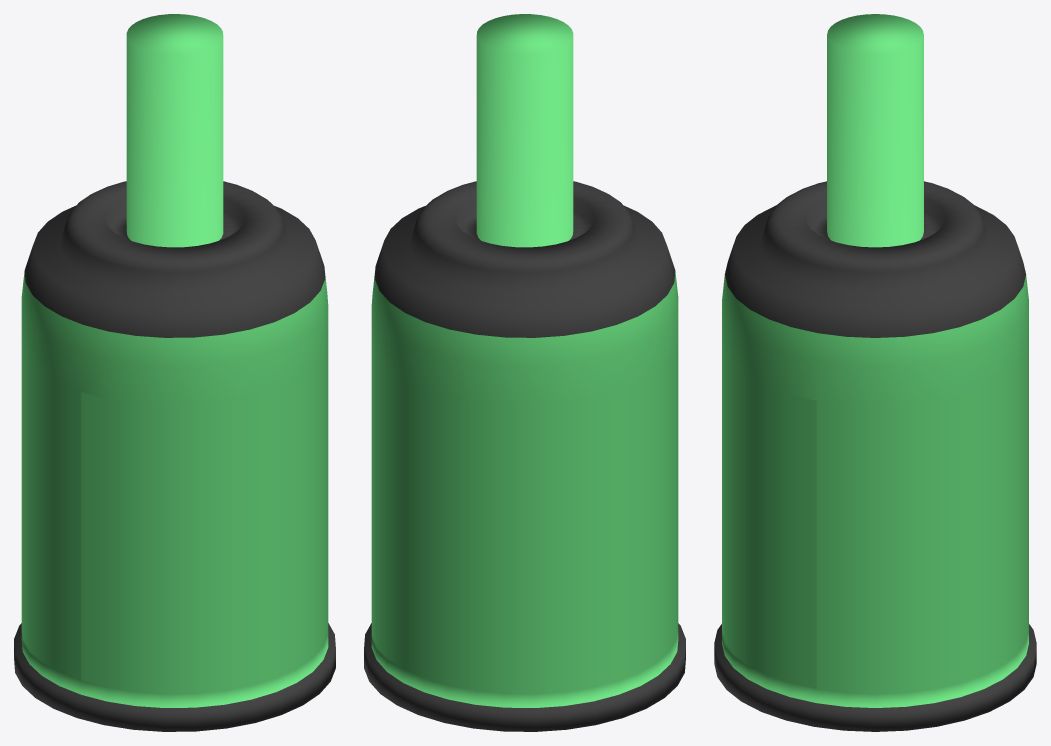
Rendered from birth_machine.glb.
The picture shows the model from 3 angles, left to right: view 1: azimuth 30°, elevation 25°; view 2: azimuth 150°, elevation 25°; view 3: azimuth 270°, elevation 25°; orthographic projection.
Parts seen in each view (by area): view 1: bocal, door; view 2: bocal, door; view 3: bocal, door.
Part boxes in pixels (x1=…): bocal: x1=14, y1=14, x2=335, y2=731; door: x1=81, y1=346, x2=328, y2=693; bocal: x1=364, y1=14, x2=685, y2=731; door: x1=677, y1=339, x2=678, y2=635; bocal: x1=714, y1=14, x2=1036, y2=731; door: x1=722, y1=342, x2=816, y2=688.
Bounding box in the file's own units: 1.02 × 2.19 × 1.02.
